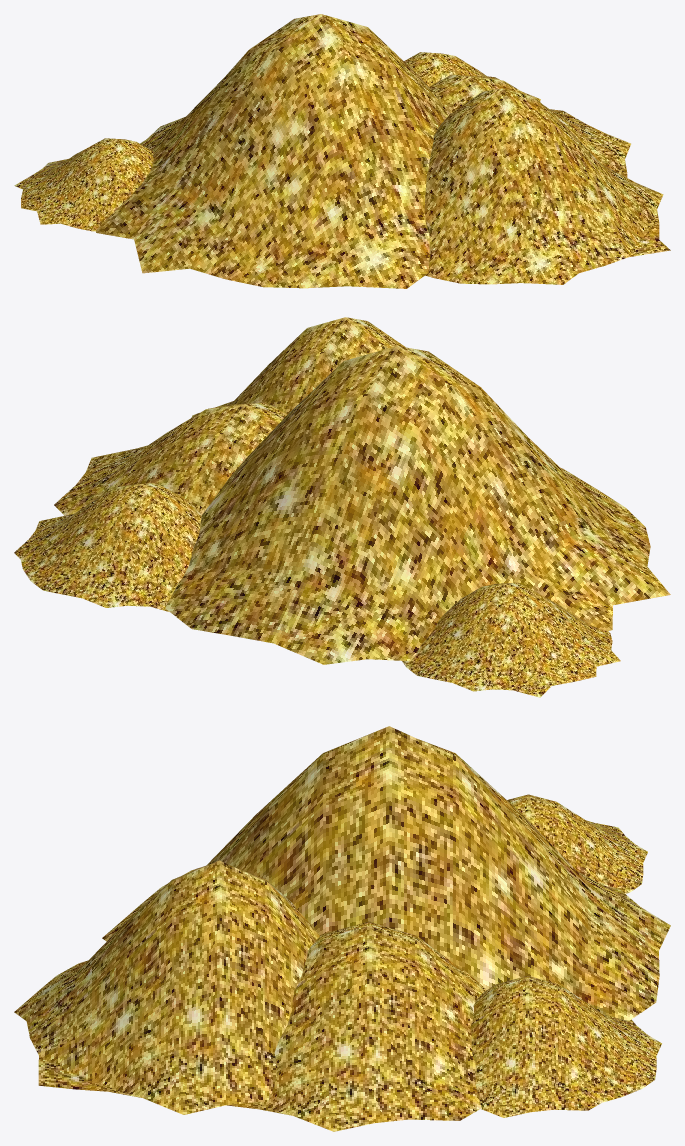
The model's file is powder.glb.
The picture shows the model from 3 angles, top to bottom: view 1: azimuth 30°, elevation 25°; view 2: azimuth 150°, elevation 25°; view 3: azimuth 270°, elevation 25°; orthographic projection. The views are drawn at different scales.
Visible parts, largest first — view 1: Plane.001, Plane.003, Plane.002, Plane.004; view 2: Plane.001, Plane.004, Plane.003, Plane.002; view 3: Plane.001, Plane.002, Plane.004, Plane.003.
Boxes of the visible parts, bbox=[...] form: Plane.001: bbox=[96, 14, 670, 288]; Plane.003: bbox=[14, 138, 154, 231]; Plane.002: bbox=[429, 74, 630, 177]; Plane.004: bbox=[404, 52, 540, 101]; Plane.001: bbox=[165, 317, 670, 664]; Plane.004: bbox=[14, 483, 201, 611]; Plane.003: bbox=[402, 582, 620, 697]; Plane.002: bbox=[54, 402, 287, 515]; Plane.001: bbox=[14, 726, 670, 1114]; Plane.002: bbox=[227, 921, 486, 1131]; Plane.004: bbox=[470, 975, 661, 1117]; Plane.003: bbox=[507, 794, 647, 894].
Size of the model in its own units: 2.58 by 0.9064 by 2.23.
1 material, 1 textured.
